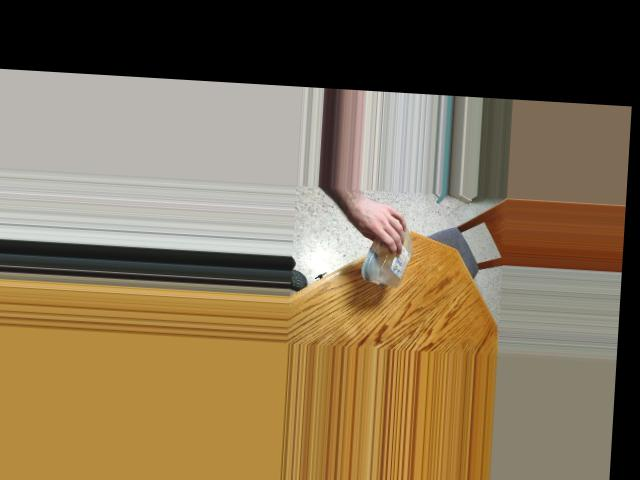cheese: (364, 225, 415, 283)
